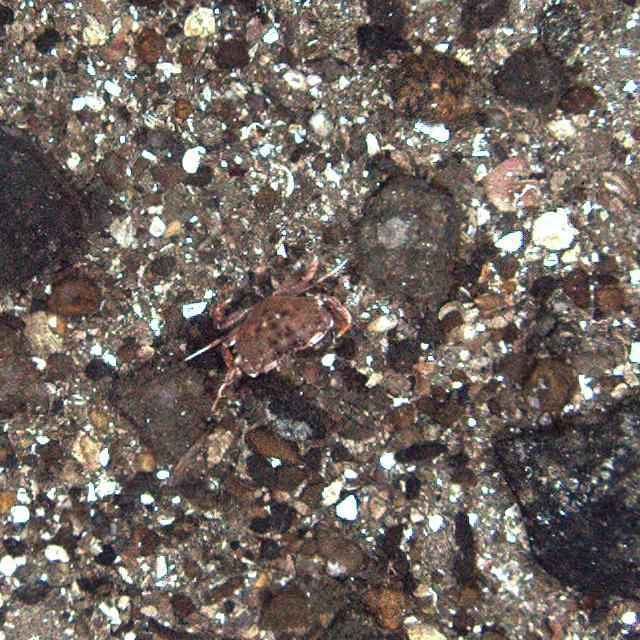crab: (208, 255, 354, 382)
